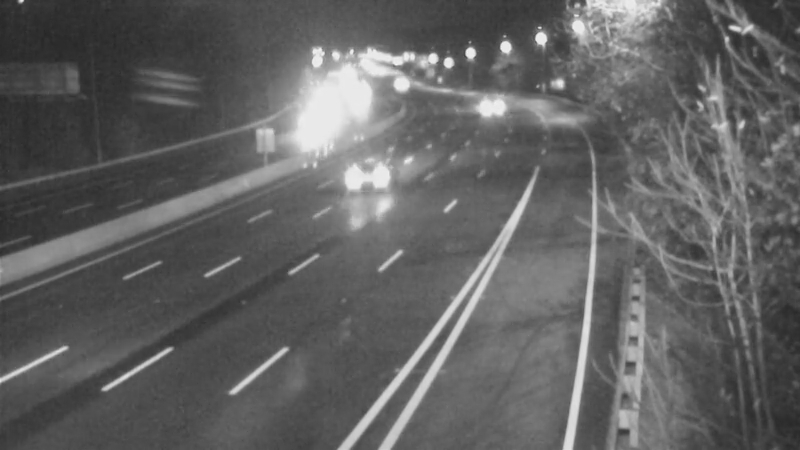vehicle: (323, 131, 403, 211), (374, 61, 424, 111), (463, 79, 513, 129)
